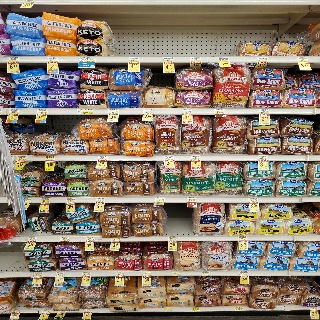All PRICE TAGS: (79, 57, 95, 62), (77, 109, 93, 114), (47, 57, 59, 62), (129, 56, 139, 62), (9, 108, 19, 114), (8, 57, 19, 62), (163, 56, 174, 61), (190, 57, 201, 62), (257, 57, 268, 62), (297, 57, 308, 62), (108, 108, 119, 113), (28, 236, 38, 241), (155, 197, 165, 202), (98, 155, 108, 160), (37, 109, 47, 114), (142, 271, 151, 276), (187, 197, 196, 202), (191, 155, 200, 160), (45, 156, 56, 160), (23, 0, 34, 4), (218, 57, 229, 61), (214, 109, 225, 113), (258, 109, 269, 113), (239, 271, 249, 275), (61, 236, 69, 241), (95, 198, 105, 202), (40, 198, 50, 202), (164, 155, 174, 159), (17, 156, 27, 160), (143, 109, 153, 113), (182, 109, 192, 113), (201, 271, 210, 275), (171, 271, 180, 275), (82, 272, 91, 276), (56, 272, 65, 276), (34, 272, 43, 276), (238, 236, 247, 240), (168, 236, 177, 240), (111, 237, 120, 241), (249, 198, 258, 202), (66, 198, 75, 202), (258, 156, 267, 160), (235, 307, 243, 311), (191, 307, 199, 311), (116, 272, 124, 276), (86, 236, 94, 240), (23, 198, 31, 202), (41, 309, 51, 312), (164, 308, 172, 311), (309, 307, 317, 310), (85, 309, 92, 312), (59, 310, 66, 313), (14, 309, 20, 312)
